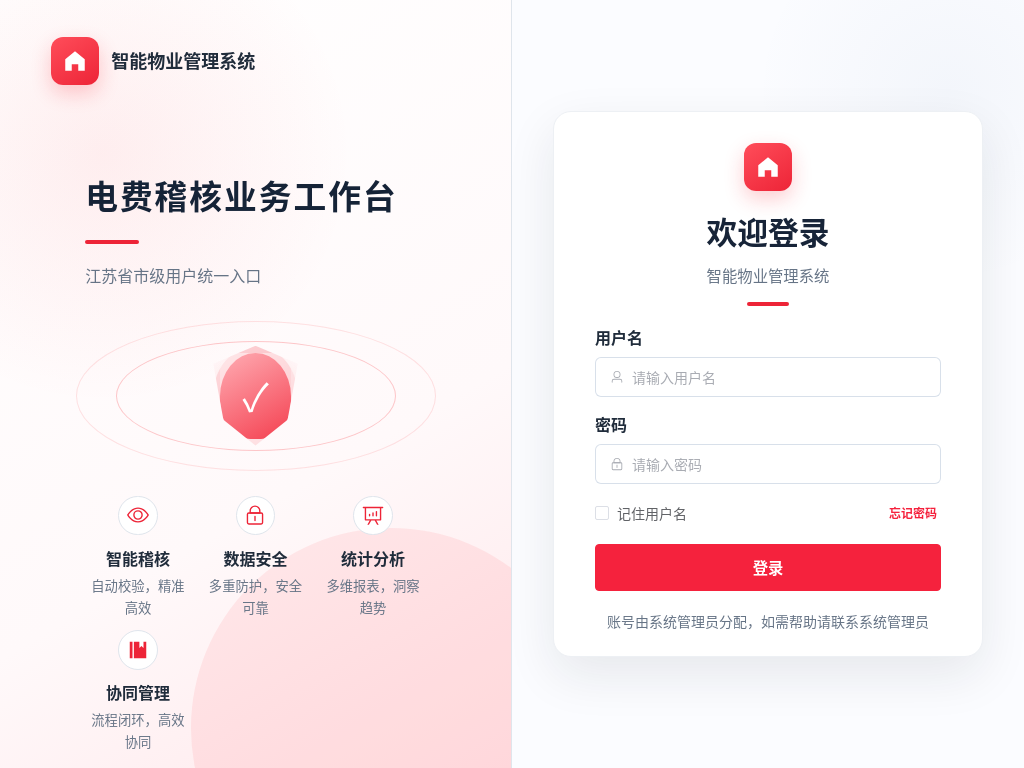
Test: LoginView › shows a generic authentication error
Step 1. Type "unknown" into the field with test id "username-input" → (779, 377), box [632, 358, 926, 396]
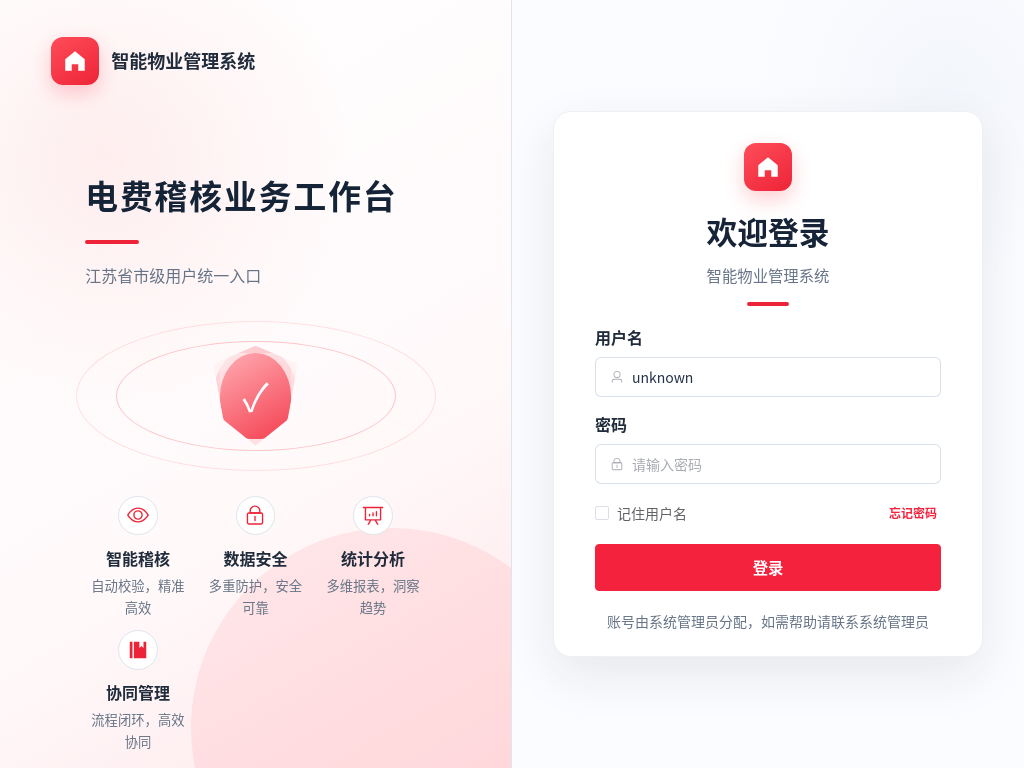
Step 2. Type "mock-value" into the password field with test id "password-input" → (779, 464), box [632, 445, 926, 483]
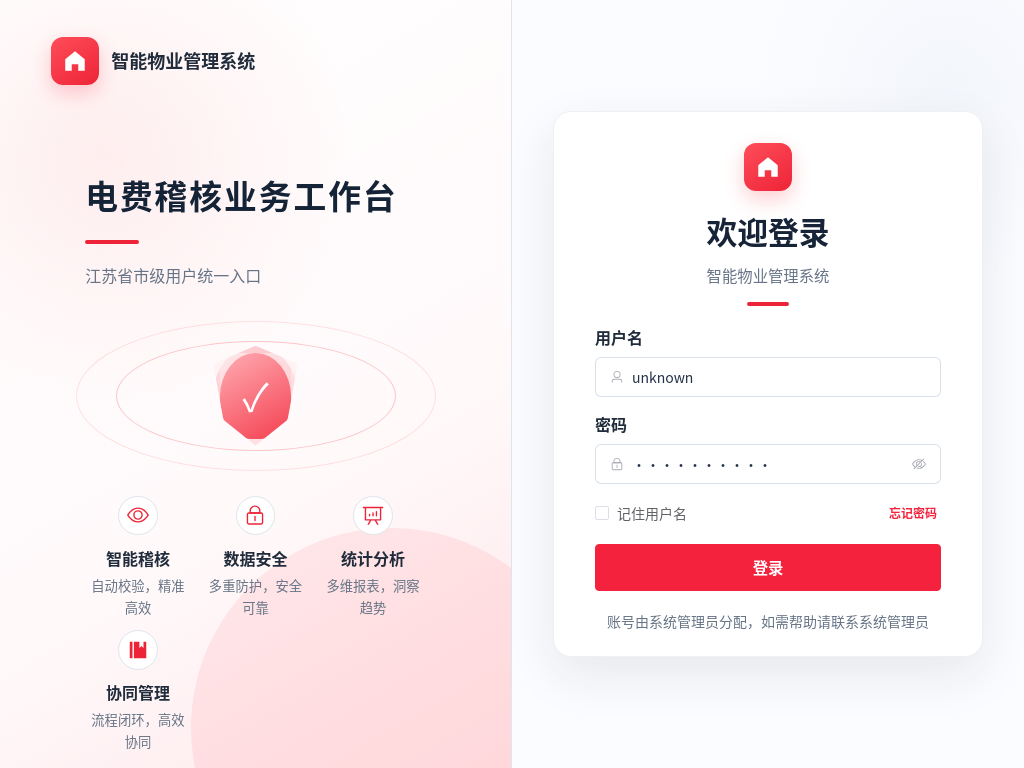
Step 3. Submit the form, box [595, 325, 941, 590]
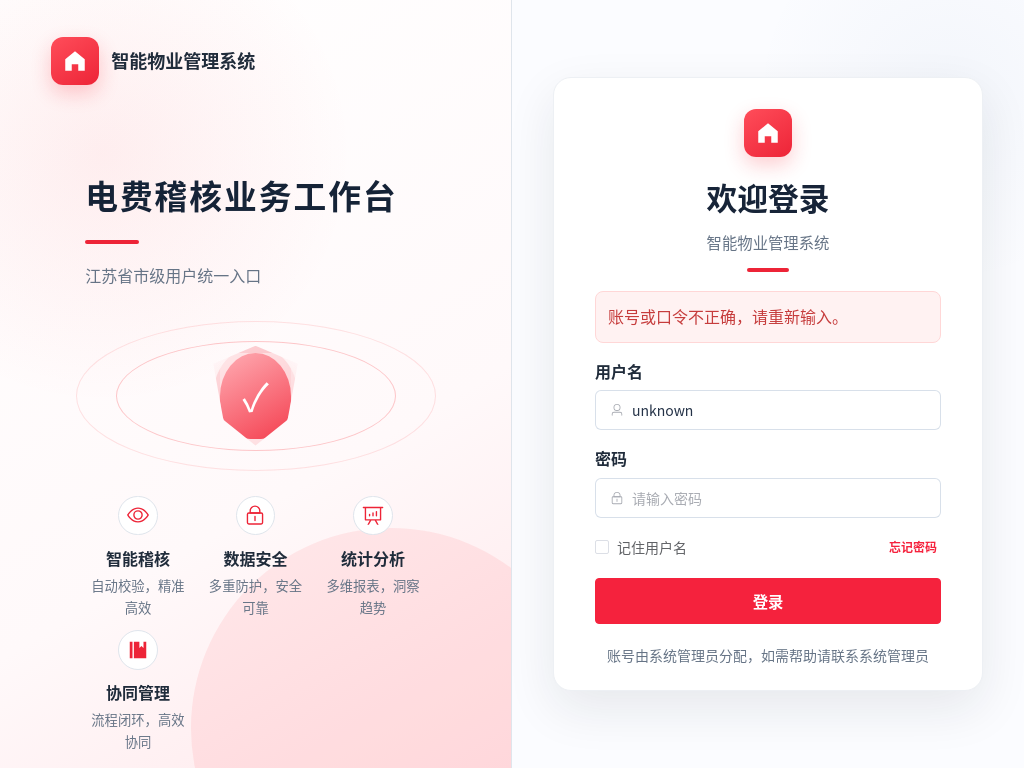
Expected: the message "账号或口令不正确，请重新输入。" is shown, [595, 291, 941, 343]
